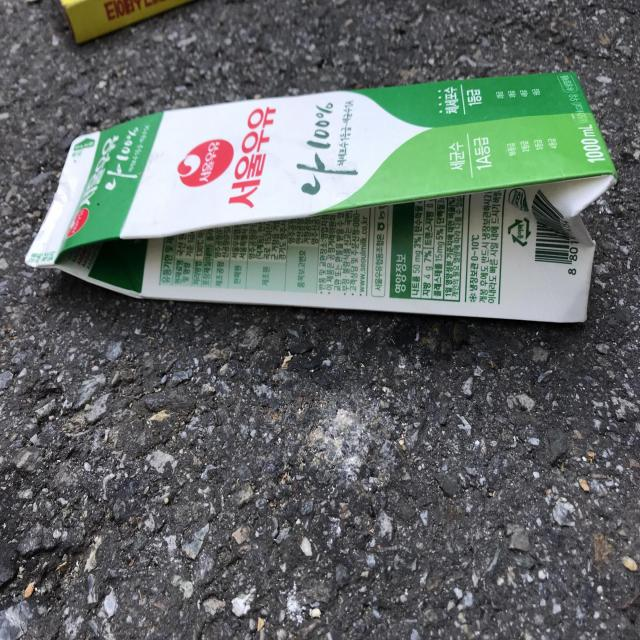paperpack: (24, 71, 618, 322), (60, 0, 190, 42)
